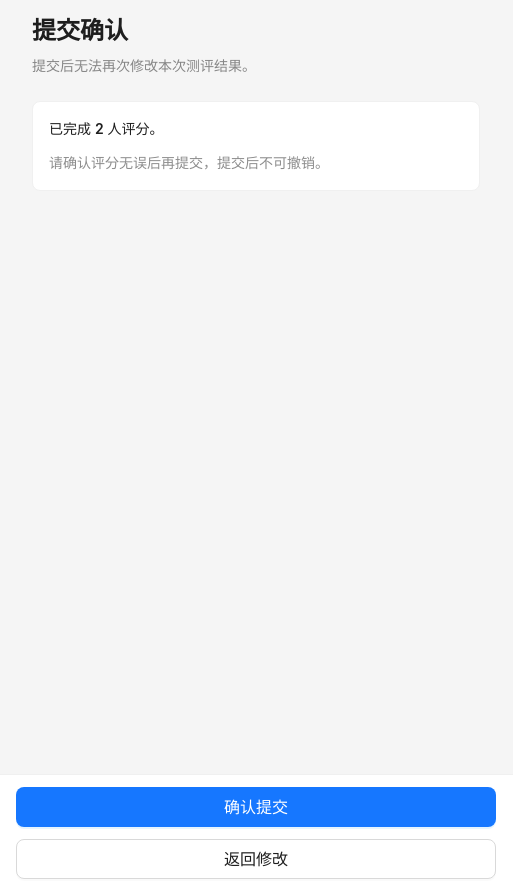
Test case: mobile evaluation flow › preserves selections through confirm and submits before navigating to completion
Earlier steps of the test are not shown.
Expected: the heading "提交确认" is shown, [32,16,128,45]
Expected: the text "已完成 2 人评分。" is shown, [49,120,164,137]
Step 1. Click the button "确认提交" → coordinates (256, 807), box [16,787,496,827]
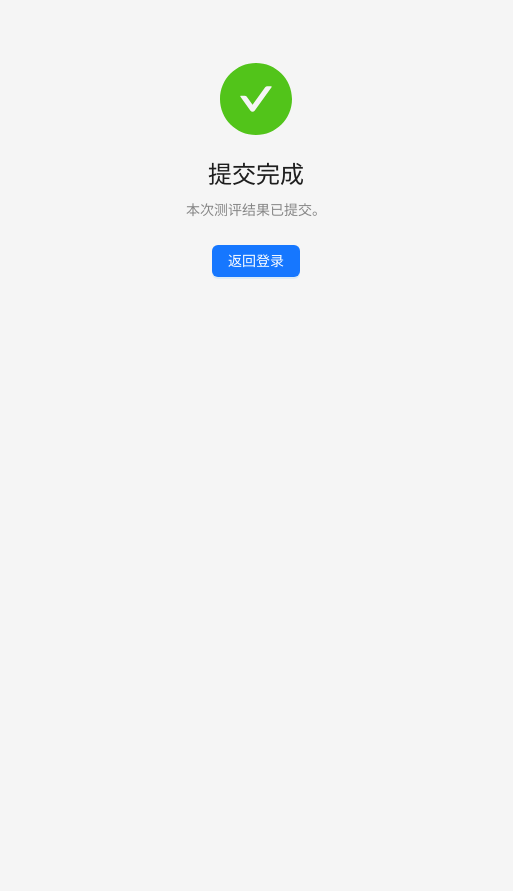
Now the text "提交完成" is shown, box [208,160,304,189]
